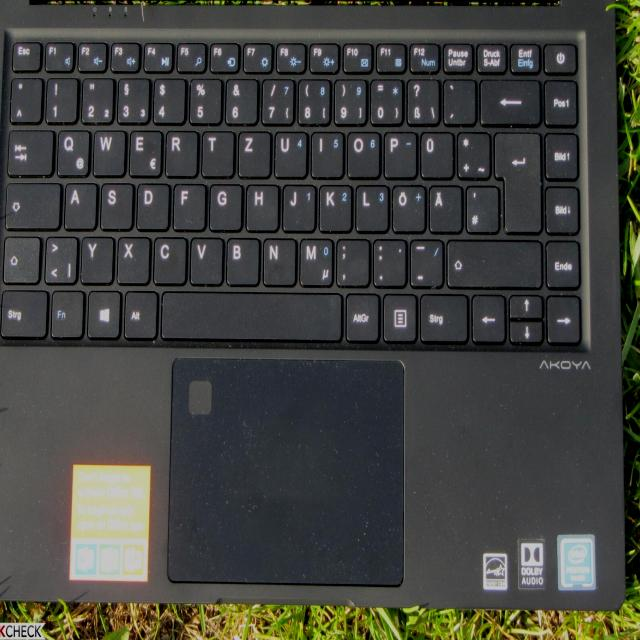0: (368, 75, 402, 123)
1: (44, 73, 76, 121)
2: (79, 73, 113, 121)
3: (114, 74, 148, 122)
4: (151, 73, 184, 121)
5: (186, 73, 220, 122)
6: (223, 74, 257, 122)
7: (260, 75, 293, 123)
8: (296, 75, 329, 123)
9: (332, 75, 366, 124)
a: (62, 178, 96, 228)
accent: (441, 75, 475, 123)
ae: (426, 181, 461, 232)
alt-left: (121, 286, 156, 338)
altgr-right: (343, 289, 378, 341)
b: (224, 233, 258, 284)
c: (151, 233, 185, 283)
caret: (7, 73, 40, 121)
comma: (334, 234, 368, 285)
d: (134, 179, 168, 229)
del: (478, 75, 539, 123)
e: (127, 126, 161, 175)
enter: (492, 128, 540, 233)
f: (171, 179, 204, 228)
g: (207, 179, 241, 229)
h: (244, 179, 278, 229)
hash: (464, 182, 498, 232)
i: (309, 127, 343, 176)
j: (280, 180, 314, 231)
k: (317, 180, 351, 230)
keyboard: (0, 26, 593, 358)
l: (354, 180, 388, 231)
less: (42, 231, 76, 283)
m: (298, 234, 332, 285)
minus: (408, 235, 442, 286)
n: (261, 234, 295, 284)
o: (345, 127, 379, 177)
oe: (390, 181, 424, 231)
p: (382, 127, 416, 177)
plus: (455, 127, 489, 177)
point: (371, 235, 406, 285)
q: (54, 126, 88, 175)
r: (163, 126, 196, 175)
s: (98, 178, 132, 228)
shift-left: (0, 231, 38, 282)
shift-lock: (3, 178, 59, 228)
shift-right: (445, 235, 542, 287)
space: (159, 286, 341, 340)
ss: (405, 75, 438, 123)
strg-left: (1, 285, 47, 337)
strg-right: (416, 289, 467, 342)
t: (199, 126, 232, 175)
tab: (5, 125, 52, 175)
u: (272, 127, 306, 177)
ue: (418, 128, 453, 178)
v: (187, 232, 222, 283)
w: (91, 125, 124, 175)
x: (115, 232, 149, 282)
y: (78, 232, 112, 282)
z: (236, 126, 269, 176)
